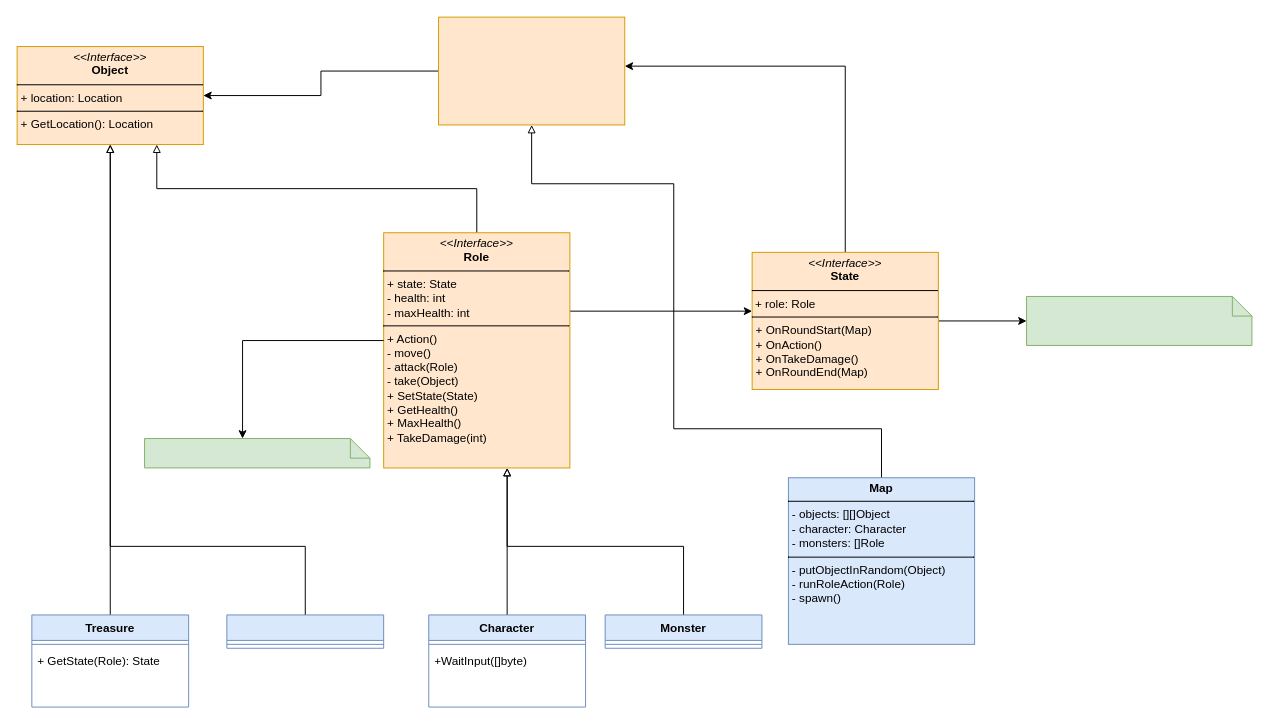
The diagram is 1269 pixels wide and 727 high, and some of its shapes have lost their labels. Each missing label, with the centre of its shape:
"<<Interface>> Map + Start() + DestroyObject(Object) + GetObjects(): [][]objects" goes at point (531, 70).
"Obstacle" goes at point (305, 631).
"Role 移動(觸碰) or 攻擊" goes at point (257, 453).
"狀態的各個作用域： 回合開始時、進行中、受傷、結束" goes at point (1139, 320).
